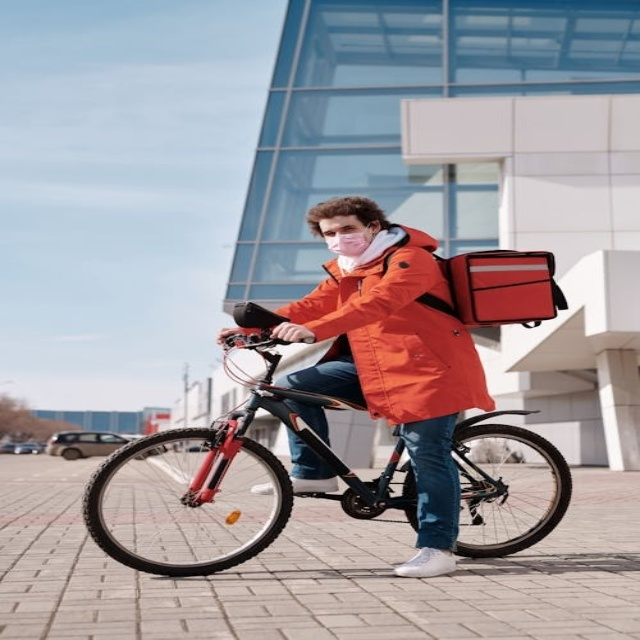Mascara: (324, 227, 373, 258)
Sin_gafas: (322, 225, 360, 236)
Sin_guantes: (265, 319, 317, 344), (216, 327, 253, 349)
